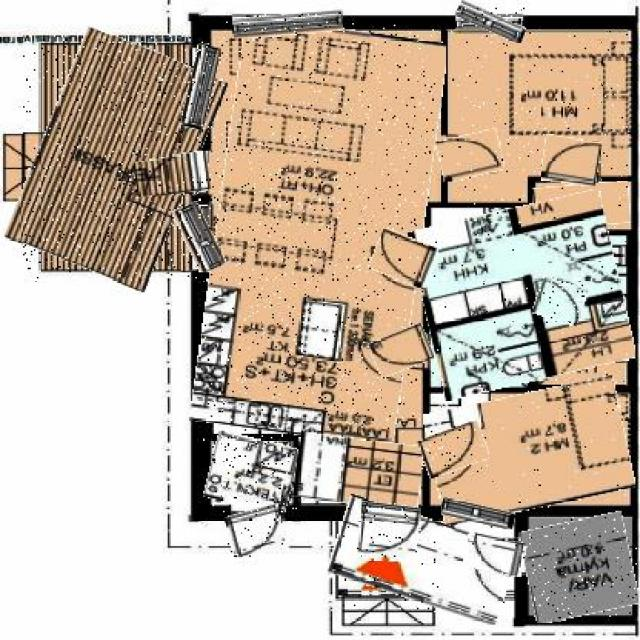door: (357, 503, 418, 562), (371, 232, 437, 285), (420, 424, 486, 474), (134, 156, 211, 196), (439, 131, 503, 178), (370, 328, 432, 374), (542, 137, 600, 185), (228, 508, 283, 557), (465, 536, 526, 576), (536, 279, 584, 323)
window: (180, 203, 220, 272), (232, 12, 343, 36), (185, 46, 217, 129), (456, 8, 526, 37), (442, 502, 516, 524)
zone: (203, 21, 435, 442), (23, 37, 211, 283), (417, 200, 628, 391), (446, 29, 628, 203), (428, 385, 630, 517), (331, 506, 514, 612), (523, 516, 637, 618), (294, 437, 421, 508), (208, 436, 297, 512), (534, 183, 629, 228)
